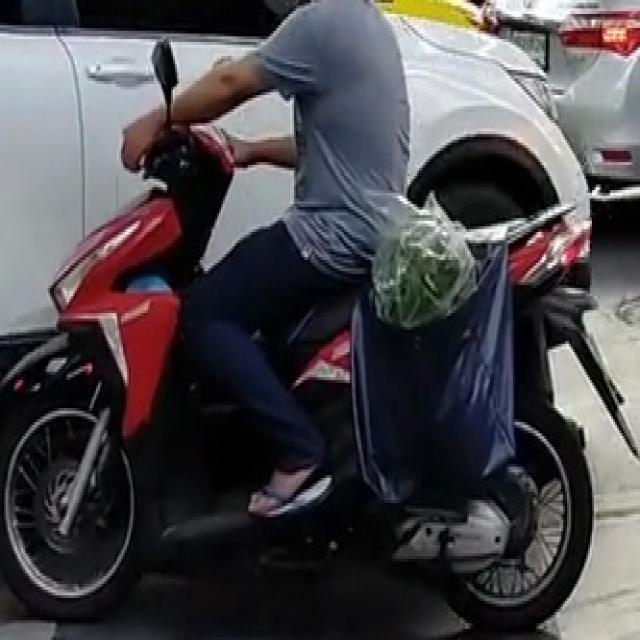door: (62, 31, 294, 271), (0, 22, 83, 338)
helmet: (140, 120, 234, 263)
tyre: (446, 400, 594, 628)
